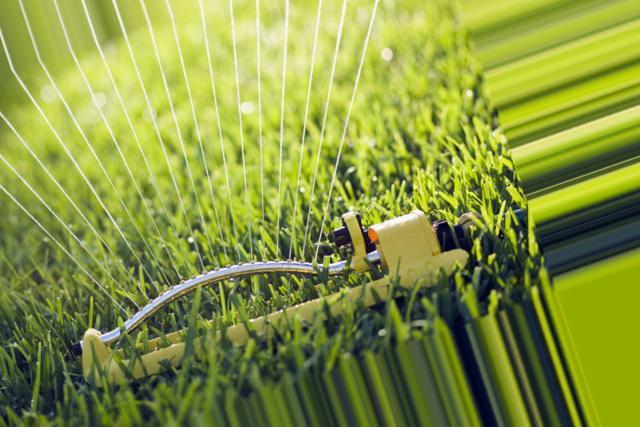patch: (377, 223, 405, 253)
